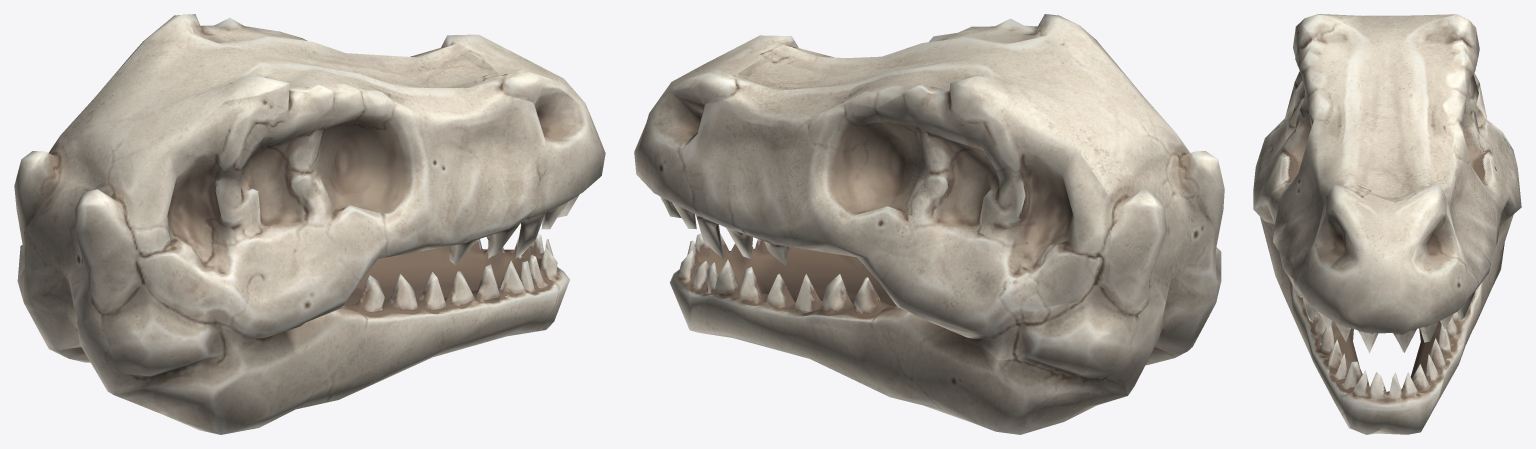
File: SM_Fossil_2.fbx
3 renders of one model, left to right at view 1: azimuth 30°, elevation 25°; view 2: azimuth 150°, elevation 25°; view 3: azimuth 270°, elevation 25°, orthographic. The views are drawn at different scales.
Parts seen in each view (by area): view 1: SM_Fossil_2; view 2: SM_Fossil_2; view 3: SM_Fossil_2.
Boxes of the visible parts, left/top/right/bottom form: SM_Fossil_2: left=14, top=14, right=605, bottom=434; SM_Fossil_2: left=634, top=14, right=1224, bottom=434; SM_Fossil_2: left=1253, top=14, right=1521, bottom=434.
Bounding box in the file's own units: 1.06 × 0.6464 × 0.5327.
